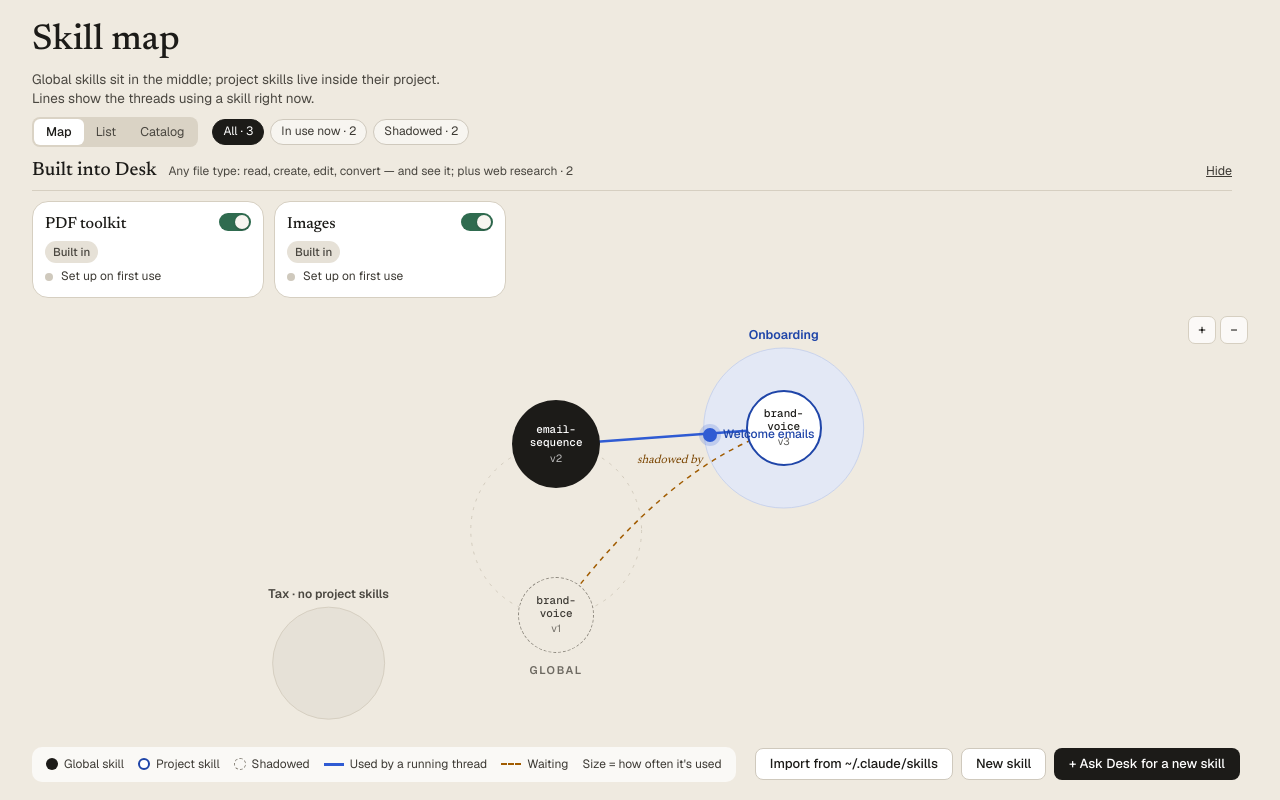
Test: SkillsScreen › shows Desk's built-in skills above your own, and duplicates one into your skills
Expected: the element named "Skill map" is shown, x1=0 y1=308 x2=1264 y2=735
Click the button with aria-label "Open PDF toolkit" at (127,250), box x1=45 y1=213 x2=209 y2=286
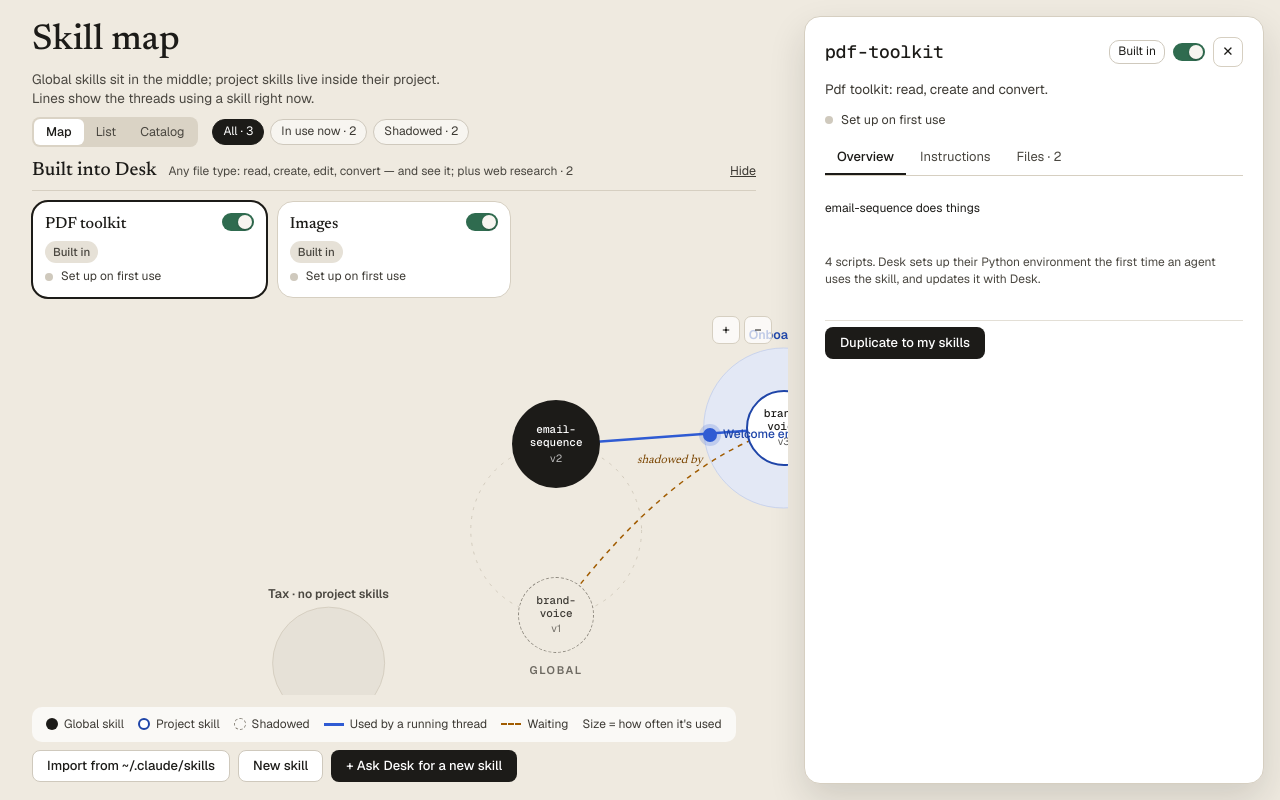
Click the button "Duplicate to my skills" at (905,343), box x1=825 y1=327 x2=985 y2=359
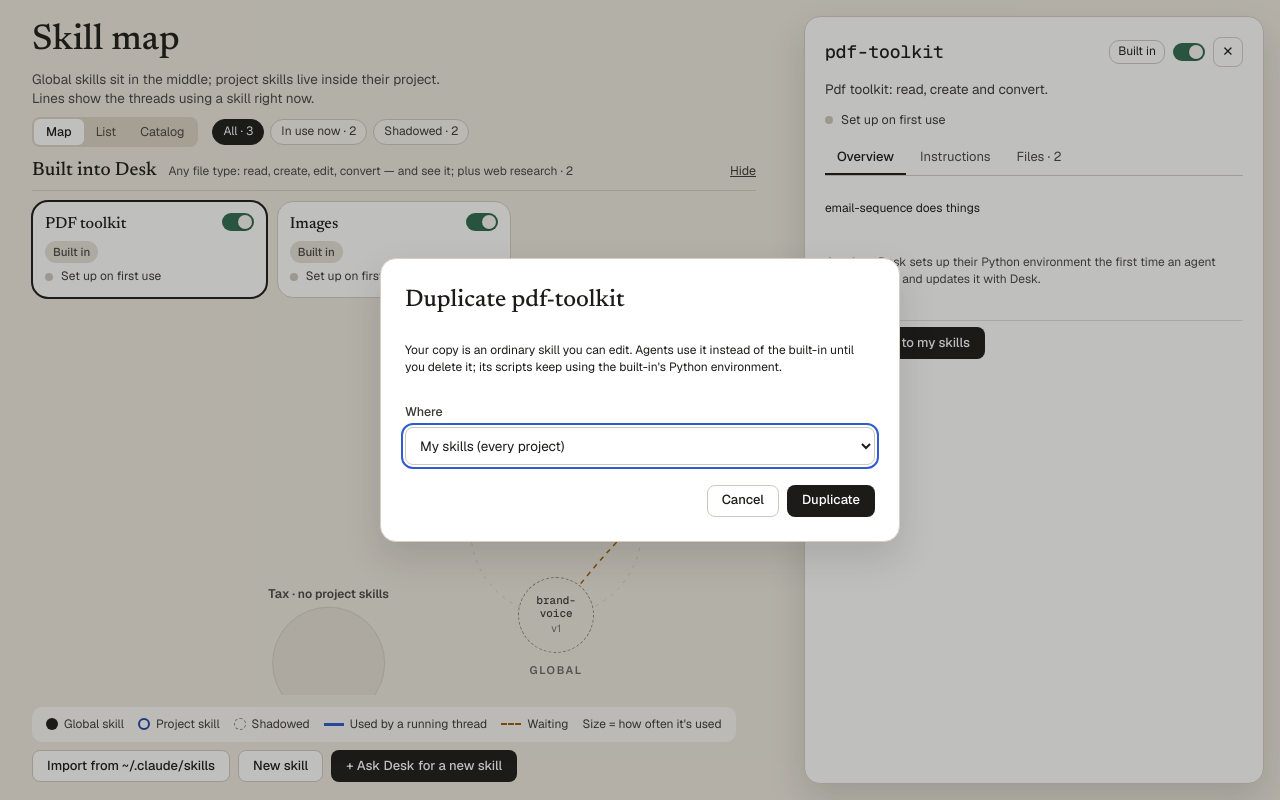
Click the button "Duplicate" at (831,501), box x1=787 y1=485 x2=875 y2=517
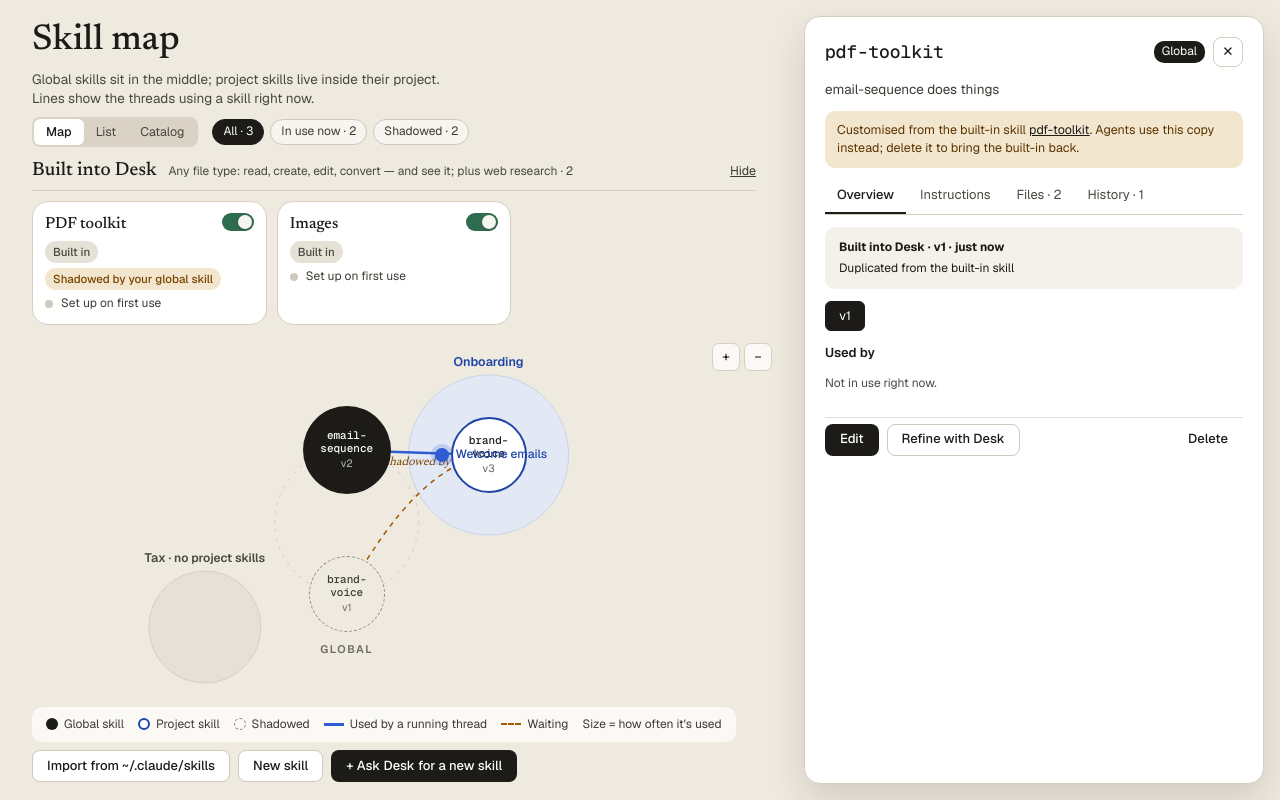
Expected: the text "Customised from the built-in skill" is shown, x1=837 y1=121 x2=1029 y2=138
Expected: the element named "Skill pdf-toolkit" shows "Built into Desk · v1", x1=804 y1=16 x2=1264 y2=784
Expected: the text "Shadowed by your global skill" is shown, x1=45 y1=268 x2=221 y2=290
